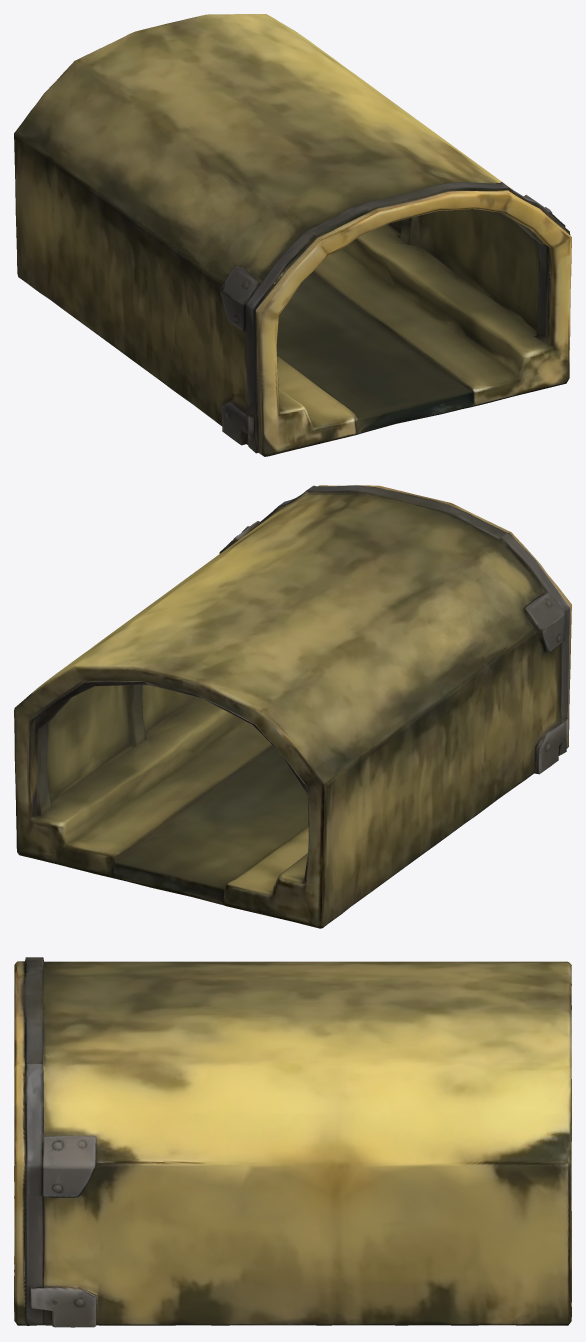
File: tripo_convert_5276ca1b-1e0b-48f1-9078-40ca9b7702d4.glb
3 renders of one model, top to bottom at view 1: azimuth 30°, elevation 25°; view 2: azimuth 150°, elevation 25°; view 3: azimuth 270°, elevation 25°, orthographic. The views are drawn at different scales.
Visible parts, largest first — view 1: tripo_node_5276ca1b-1e0b-48f1-9078-40ca9b7702d4; view 2: tripo_node_5276ca1b-1e0b-48f1-9078-40ca9b7702d4; view 3: tripo_node_5276ca1b-1e0b-48f1-9078-40ca9b7702d4.
Boxes of the visible parts, x1=… form: tripo_node_5276ca1b-1e0b-48f1-9078-40ca9b7702d4: x1=14, y1=14, x2=571, y2=456; tripo_node_5276ca1b-1e0b-48f1-9078-40ca9b7702d4: x1=14, y1=485, x2=571, y2=928; tripo_node_5276ca1b-1e0b-48f1-9078-40ca9b7702d4: x1=14, y1=957, x2=571, y2=1327.
Size of the model in its own units: 0.7571 by 0.4891 by 1.
1 material, 1 textured.
